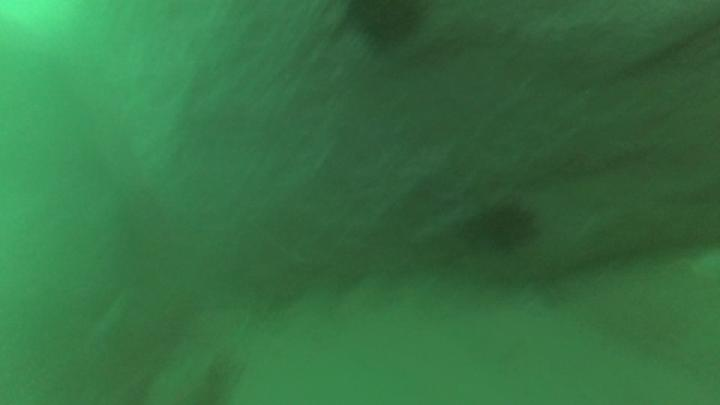echinus: (340, 3, 438, 68), (475, 194, 546, 261)
